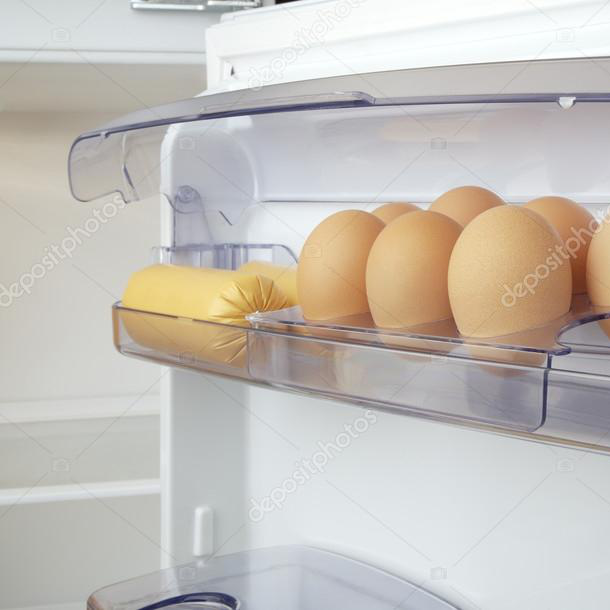egg: (279, 180, 610, 342)
